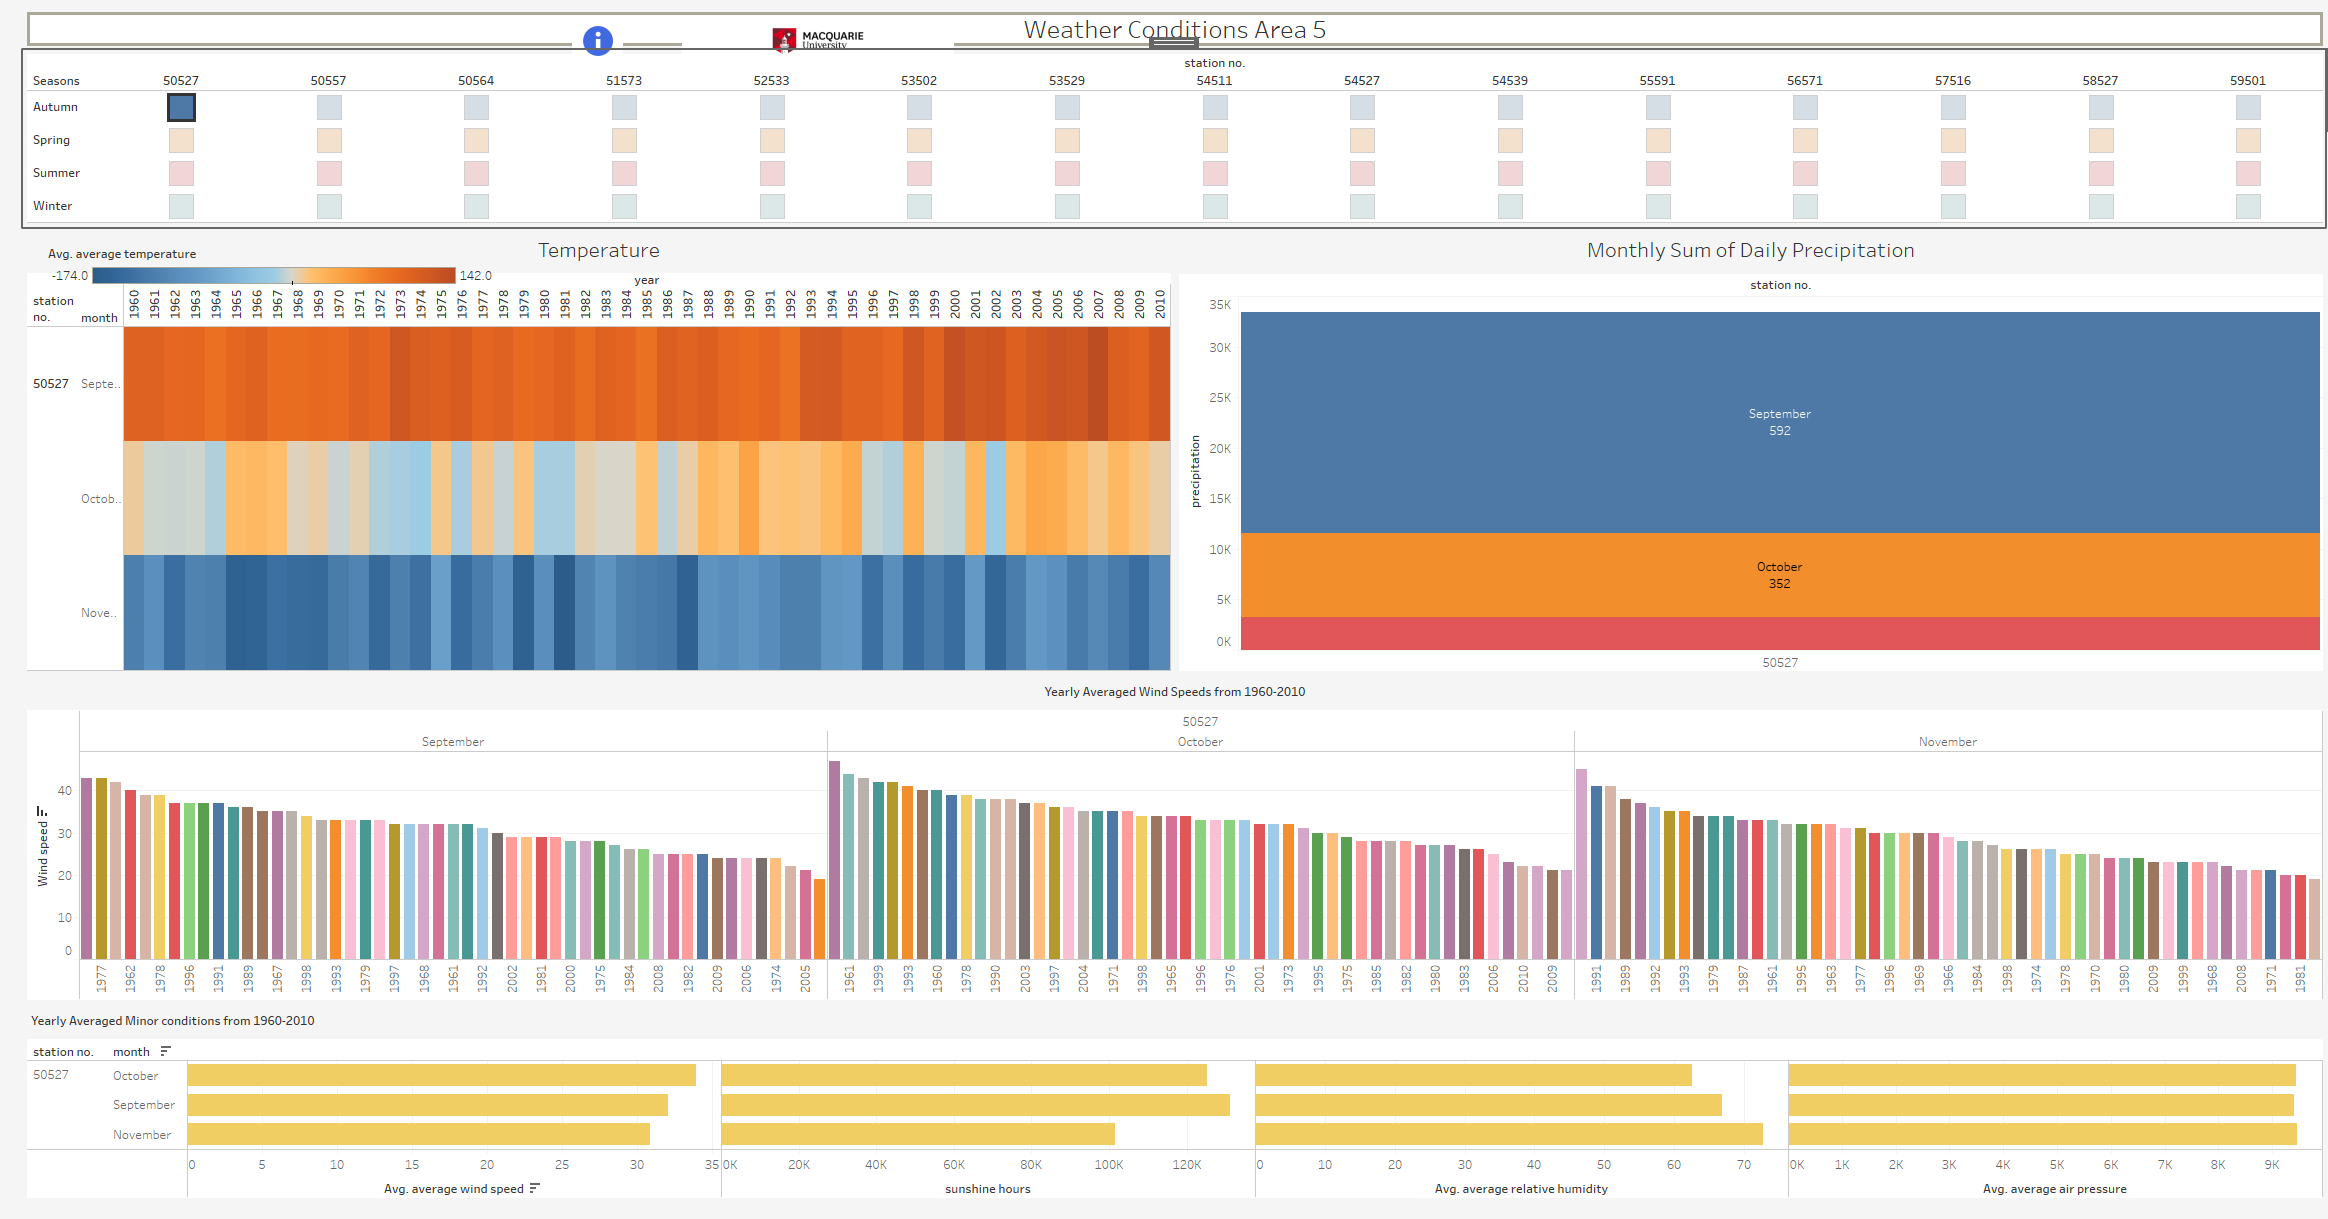

The dashboard page shown, as its layout file describes it:
{"tool":"tableau","page":{"name":"Seasonal Weather Conditions","canvas":[1000,1000],"units":"permille","ordinal":7},"visuals":[{"type":"worksheet","box":[0,0,1000,1000]},{"type":"worksheet","param":"horz","box":[4.8,9.4,990.5,981.2]},{"type":"worksheet","param":"horz","box":[4.8,9.4,990.5,981.2]},{"type":"worksheet","param":"horz","box":[4.8,9.4,990.5,981.2]},{"type":"worksheet","param":"horz","box":[4.8,9.4,990.5,981.2]},{"type":"worksheet","param":"horz","box":[4.8,9.4,990.5,981.2]},{"type":"worksheet","param":"horz","box":[4.8,9.4,990.5,981.2]},{"type":"worksheet","param":"horz","box":[4.8,9.4,990.5,981.2]},{"type":"worksheet","param":"horz","box":[4.8,9.4,990.5,981.2]},{"type":"worksheet","box":[4.8,9.4,990.5,981.2]},{"type":"worksheet","param":"vert","box":[4.8,9.4,990.5,981.2]},{"type":"worksheet","box":[4.8,9.4,990.5,49.4]},{"type":"worksheet","title":"MQ logo","mark":"Shape","rows":["Calculation_472033563280863234"],"box":[287.5,18.8,117.3,28.2]},{"type":"worksheet","title":"Info icon","mark":"Shape","rows":["Calculation_160159288920993792"],"box":[240.3,21.2,21.9,24.7]},{"type":"worksheet","param":"horz","box":[4.8,58.8,990.5,931.8]},{"type":"worksheet","box":[4.8,58.8,990.5,931.8]},{"type":"worksheet","title":"Area 5","mark":"Square","cols":["V1"],"box":[4.8,58.8,990.5,143.5]},{"type":"worksheet","title":"Season Chart","mark":"Automatic","rows":["V1","V3"],"cols":["V2"],"box":[4.8,202.3,495.2,362.4]},{"type":"worksheet","title":"Season Chart","mark":"Automatic","rows":["V1","V3"],"cols":["V2"],"param":"[federated.1q48t3g02crbdg1ef09er0pcvigr].[avg:V14:qk]","box":[14.3,202.3,193.5,49.4]},{"type":"worksheet","title":"Sum of Rainfall","mark":"Automatic","rows":["V11"],"cols":["V1"],"box":[500,202.3,495.3,362.4]},{"type":"worksheet","title":"wind conditions","mark":"Automatic","rows":["V13"],"cols":["V1","V3","V2"],"box":[4.8,564.7,990.5,266.1]},{"type":"worksheet","title":"Minor Conditions","mark":"Bar","rows":["V1","V3"],"cols":["V13","V22","V17","V12"],"box":[4.8,830.8,990.5,159.8]}]}

Visuals, with their boxes on the dashboard's canvas, which has no fixed pixel size, in thousandths of its width and height (x1, y1, x2, y2). These are canvas units, not pixel positions in the 2328x1219 screenshot, which may show the page scaled, cropped or inside an application window:
worksheet: <region>0, 0, 1000, 1000</region>
worksheet: <region>5, 9, 995, 991</region>
worksheet: <region>5, 9, 995, 991</region>
worksheet: <region>5, 9, 995, 991</region>
worksheet: <region>5, 9, 995, 991</region>
worksheet: <region>5, 9, 995, 991</region>
worksheet: <region>5, 9, 995, 991</region>
worksheet: <region>5, 9, 995, 991</region>
worksheet: <region>5, 9, 995, 991</region>
worksheet: <region>5, 9, 995, 991</region>
worksheet: <region>5, 9, 995, 991</region>
worksheet: <region>5, 9, 995, 59</region>
"MQ logo" worksheet (Shape marks): <region>288, 19, 405, 47</region>
"Info icon" worksheet (Shape marks): <region>240, 21, 262, 46</region>
worksheet: <region>5, 59, 995, 991</region>
worksheet: <region>5, 59, 995, 991</region>
"Area 5" worksheet (Square marks): <region>5, 59, 995, 202</region>
"Season Chart" worksheet: <region>5, 202, 500, 565</region>
"Season Chart" worksheet: <region>14, 202, 208, 252</region>
"Sum of Rainfall" worksheet: <region>500, 202, 995, 565</region>
"wind conditions" worksheet: <region>5, 565, 995, 831</region>
"Minor Conditions" worksheet (Bar marks): <region>5, 831, 995, 991</region>
